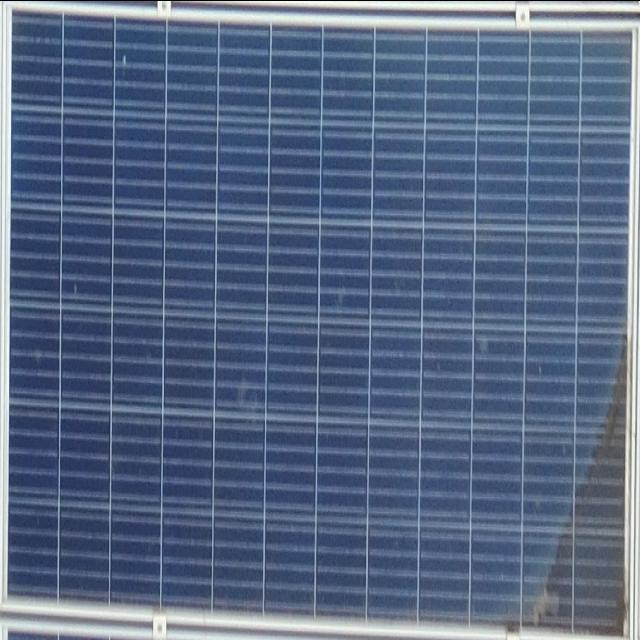Dust: (502, 305, 634, 631)
bird-droppings: (115, 51, 132, 70)
